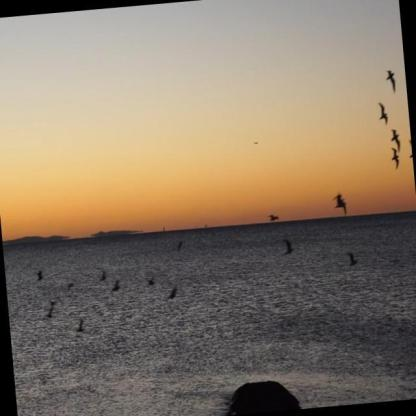bird: (332, 192, 349, 219), (164, 280, 182, 304), (390, 125, 403, 155), (72, 315, 88, 339), (376, 99, 390, 126), (384, 66, 397, 94), (389, 145, 401, 173), (41, 303, 57, 323), (346, 246, 359, 270), (108, 273, 121, 297), (280, 236, 293, 257), (96, 267, 109, 286), (64, 275, 75, 294), (146, 272, 157, 290), (265, 211, 281, 223), (175, 237, 184, 256), (36, 266, 44, 285)
